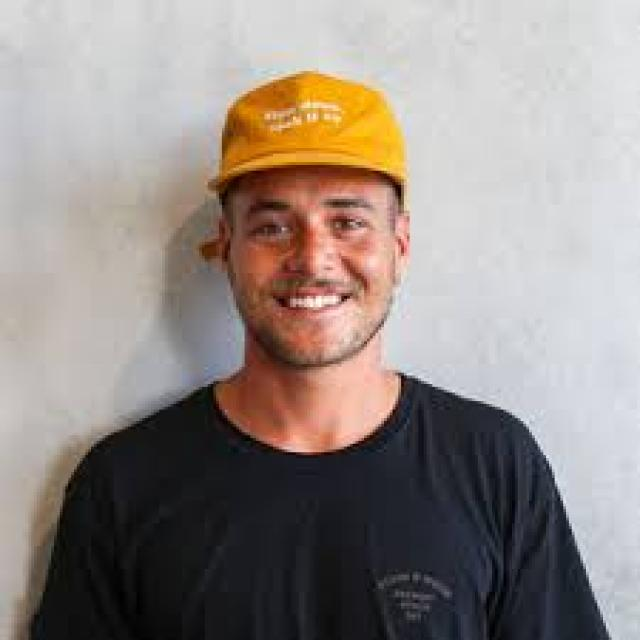3_gorra: (208, 72, 414, 193)
